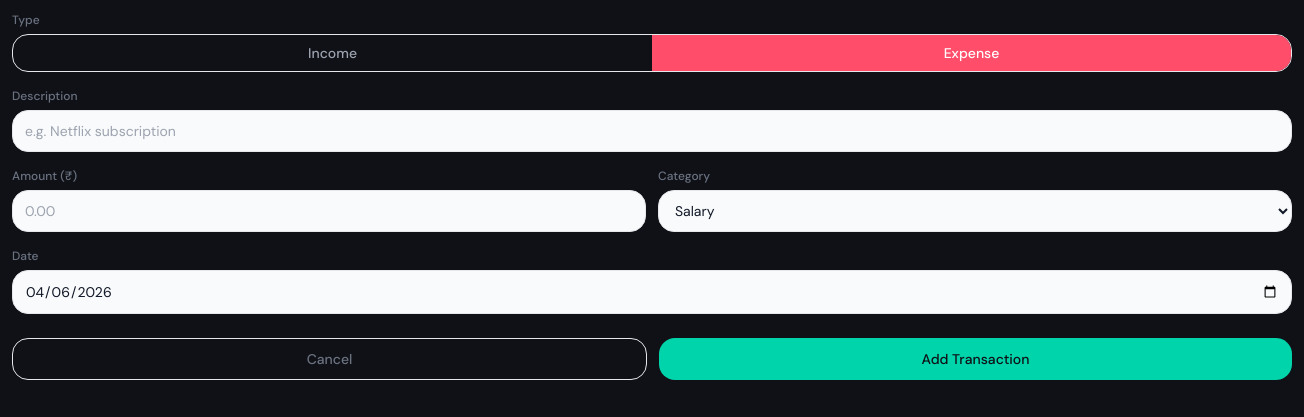
TransactionForm — validation › shows an error when amount is zero
Type "Test" into the field with placeholder "e.g. Netflix subscription".
click(652, 131); type("Test")  # box top-left (12, 110), bottom-right (1292, 152)
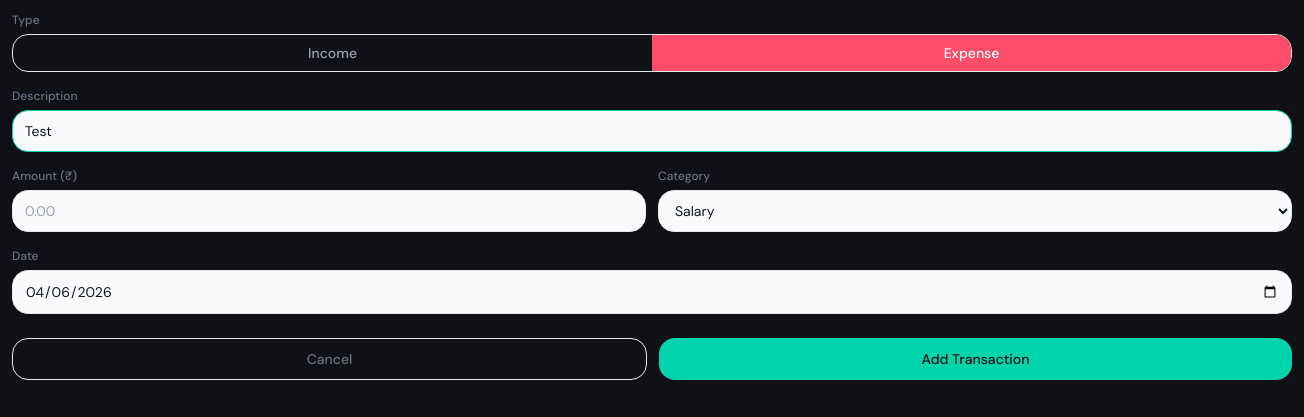
Type "0" into the number field with placeholder "0.00".
click(329, 211); type("0")  # box top-left (12, 190), bottom-right (646, 232)
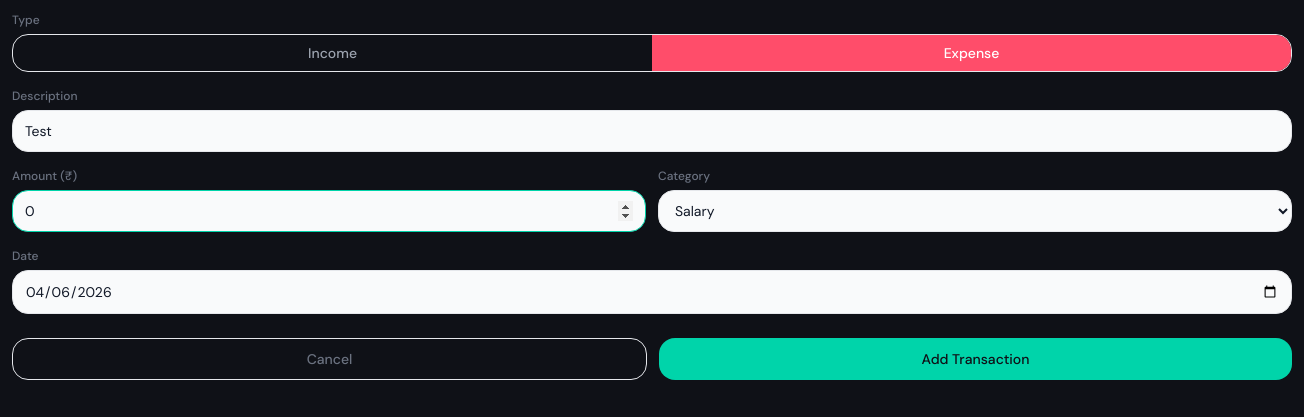
Click the button "Add Transaction".
click(976, 359)  # box top-left (659, 338), bottom-right (1292, 380)
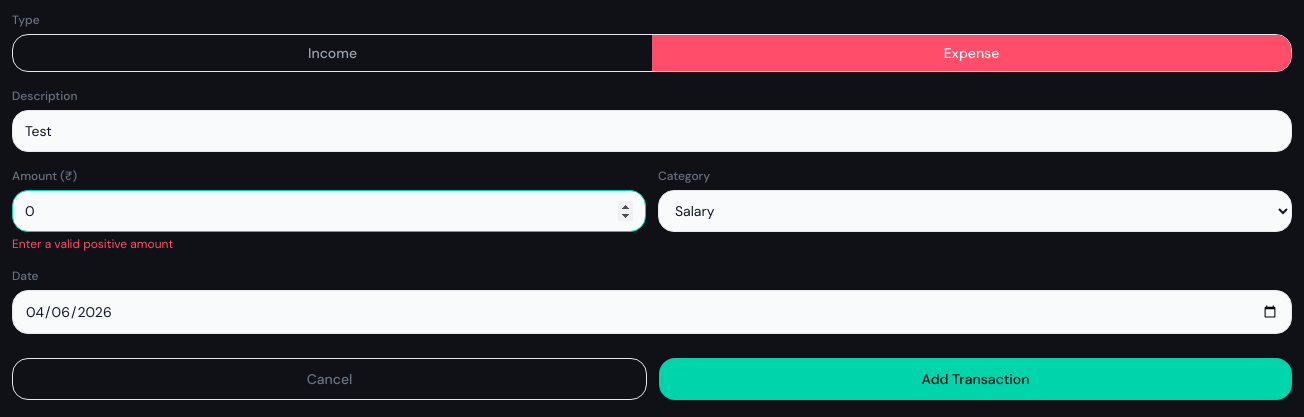
Expected: the text "Enter a valid positive amount" is shown, top-left (12, 236), bottom-right (173, 252)
